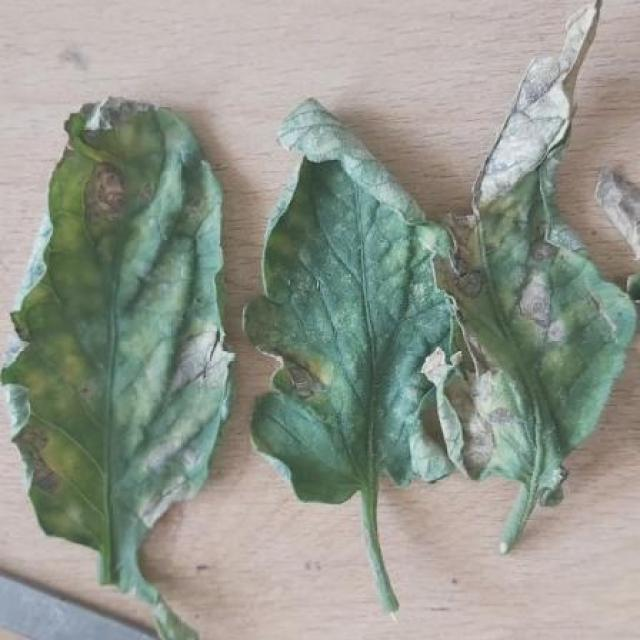Early Blight: (0, 95, 240, 548), (247, 100, 454, 504)
